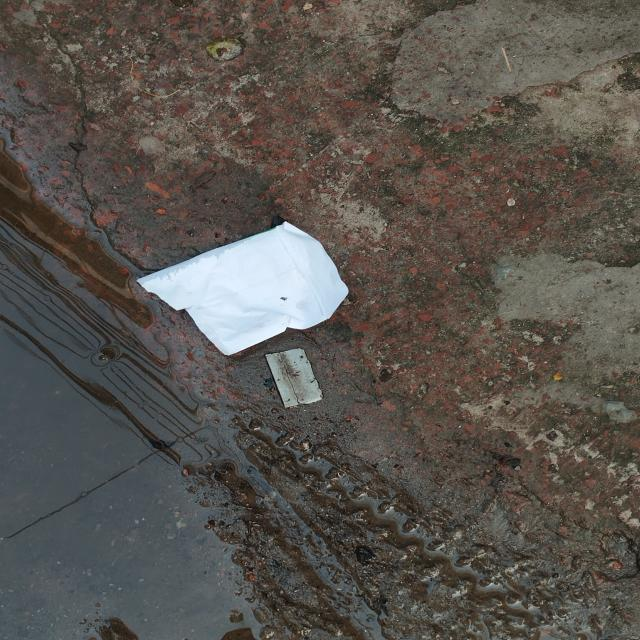paper: (132, 219, 348, 356)
